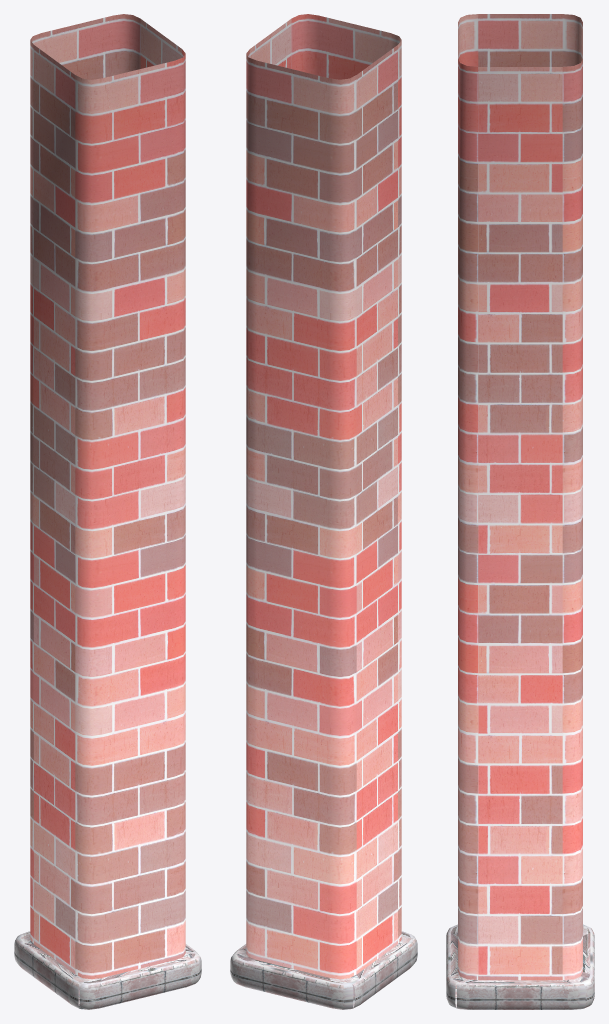
The model's file is Chimney.obj.
3 views of the same model, side by side, from view 1: azimuth 30°, elevation 25°; view 2: azimuth 150°, elevation 25°; view 3: azimuth 270°, elevation 25° (orthographic).
Visible parts, largest first — view 1: Plane; view 2: Plane; view 3: Plane.
Part boxes in pixels (x1=…): Plane: x1=14, y1=14, x2=201, y2=1009; Plane: x1=230, y1=14, x2=417, y2=1009; Plane: x1=446, y1=14, x2=594, y2=1009.
Size of the model in its own units: 2.37 by 16.58 by 2.37.
